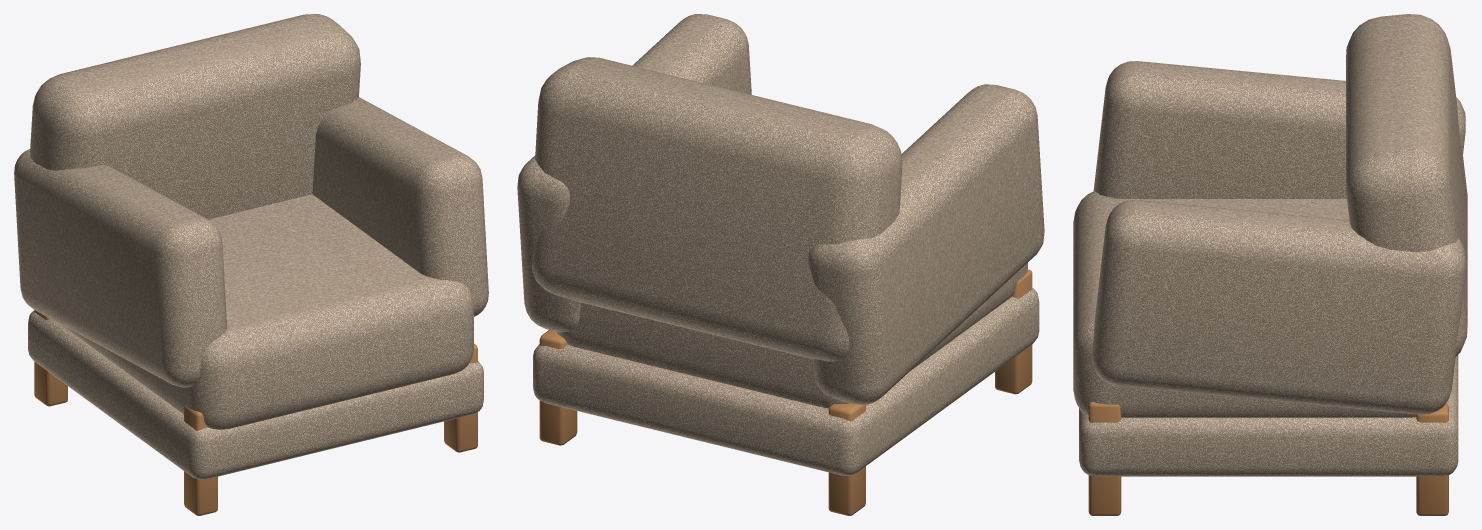
File: limoon-berjer.glb
The picture shows the model from 3 angles, left to right: view 1: azimuth 30°, elevation 25°; view 2: azimuth 150°, elevation 25°; view 3: azimuth 270°, elevation 25°; orthographic projection. The views are drawn at different scales.
Visible parts, largest first — view 1: Berjer_Seat, Berjer_Back, Berjer_Arm_0, Berjer_Apron, Berjer_Arm_1, Berjer_Leg_0, Berjer_Leg_1, Berjer_Leg_2; view 2: Berjer_Back, Berjer_Arm_0, Berjer_Apron, Berjer_Seat, Berjer_Arm_1, Berjer_Leg_2, Berjer_Leg_3, Berjer_Leg_0; view 3: Berjer_Arm_1, Berjer_Arm_0, Berjer_Back, Berjer_Apron, Berjer_Seat, Berjer_Leg_1, Berjer_Leg_3.
Part boxes in pixels (x1=…): Berjer_Seat: x1=61, y1=194, x2=473, y2=429; Berjer_Back: x1=30, y1=14, x2=360, y2=219; Berjer_Arm_0: x1=14, y1=149, x2=227, y2=387; Berjer_Apron: x1=28, y1=310, x2=483, y2=479; Berjer_Arm_1: x1=312, y1=97, x2=488, y2=316; Berjer_Leg_0: x1=184, y1=405, x2=217, y2=515; Berjer_Leg_1: x1=444, y1=343, x2=477, y2=452; Berjer_Leg_2: x1=34, y1=310, x2=67, y2=406; Berjer_Back: x1=531, y1=57, x2=902, y2=361; Berjer_Arm_0: x1=808, y1=84, x2=1044, y2=404; Berjer_Apron: x1=533, y1=288, x2=1039, y2=475; Berjer_Seat: x1=557, y1=263, x2=1027, y2=408; Berjer_Arm_1: x1=517, y1=14, x2=751, y2=332; Berjer_Leg_2: x1=828, y1=403, x2=865, y2=515; Berjer_Leg_3: x1=539, y1=330, x2=577, y2=445; Berjer_Leg_0: x1=995, y1=269, x2=1032, y2=394; Berjer_Arm_1: x1=1092, y1=200, x2=1465, y2=414; Berjer_Arm_0: x1=1093, y1=61, x2=1465, y2=198; Berjer_Back: x1=1346, y1=14, x2=1467, y2=357; Berjer_Apron: x1=1079, y1=355, x2=1458, y2=476; Berjer_Seat: x1=1073, y1=191, x2=1416, y2=417; Berjer_Leg_1: x1=1088, y1=402, x2=1121, y2=515; Berjer_Leg_3: x1=1416, y1=403, x2=1448, y2=515.
Bounding box in the file's own units: 0.8152 × 0.7915 × 0.7864.
2 materials, 1 textured.
